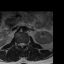CCS_normal: (21, 41, 23, 49)
LFS_normal: (25, 41, 26, 47)
LLS_normal: (23, 41, 25, 47)
RFS_normal: (17, 41, 19, 47)
RLS_normal: (19, 41, 21, 47)
